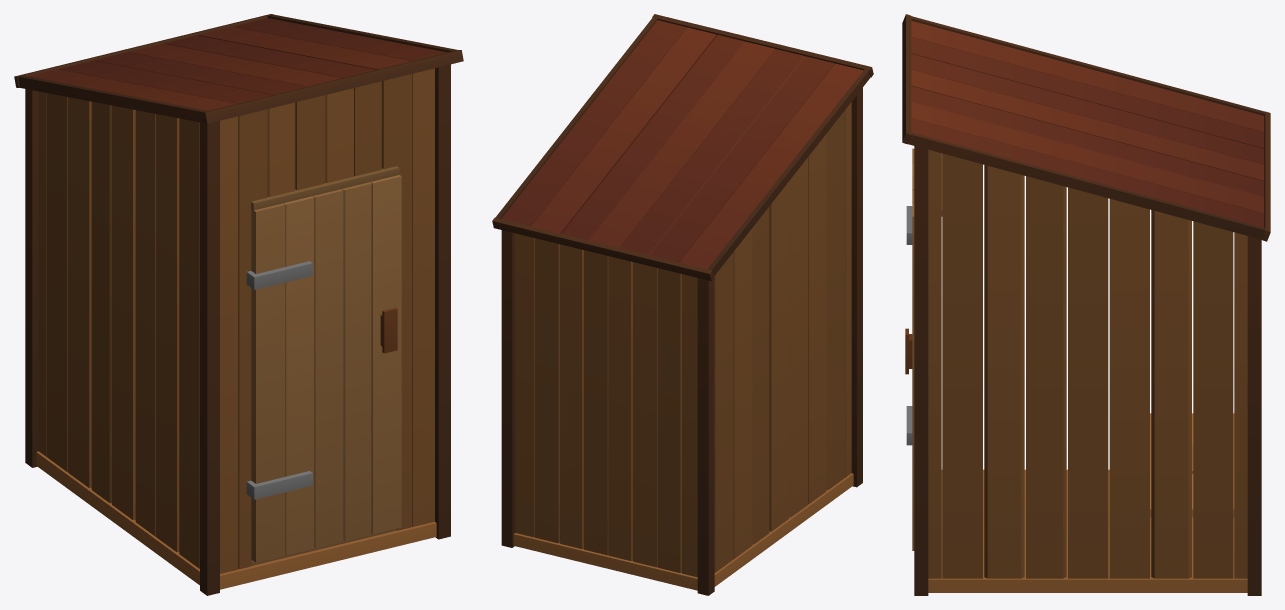
The model's file is Bld_Outhouse_01.obj.
The picture shows the model from 3 angles, left to right: view 1: azimuth 30°, elevation 25°; view 2: azimuth 150°, elevation 25°; view 3: azimuth 270°, elevation 25°; orthographic projection. The views are drawn at different scales.
Parts seen in each view (by area): view 1: Bld_Outhouse_01, Bld_Outhouse_Door_01; view 2: Bld_Outhouse_01; view 3: Bld_Outhouse_01, Bld_Outhouse_Door_01.
Part boxes in pixels (<box>): Bld_Outhouse_01: <box>14,14,463,595</box>; Bld_Outhouse_Door_01: <box>246,175,401,562</box>; Bld_Outhouse_01: <box>492,14,873,595</box>; Bld_Outhouse_01: <box>902,14,1270,595</box>; Bld_Outhouse_Door_01: <box>905,148,914,550</box>.
Bounding box in the file's own units: 1.35 × 2.46 × 1.76.
Materials: 1 (1 with a texture image).
